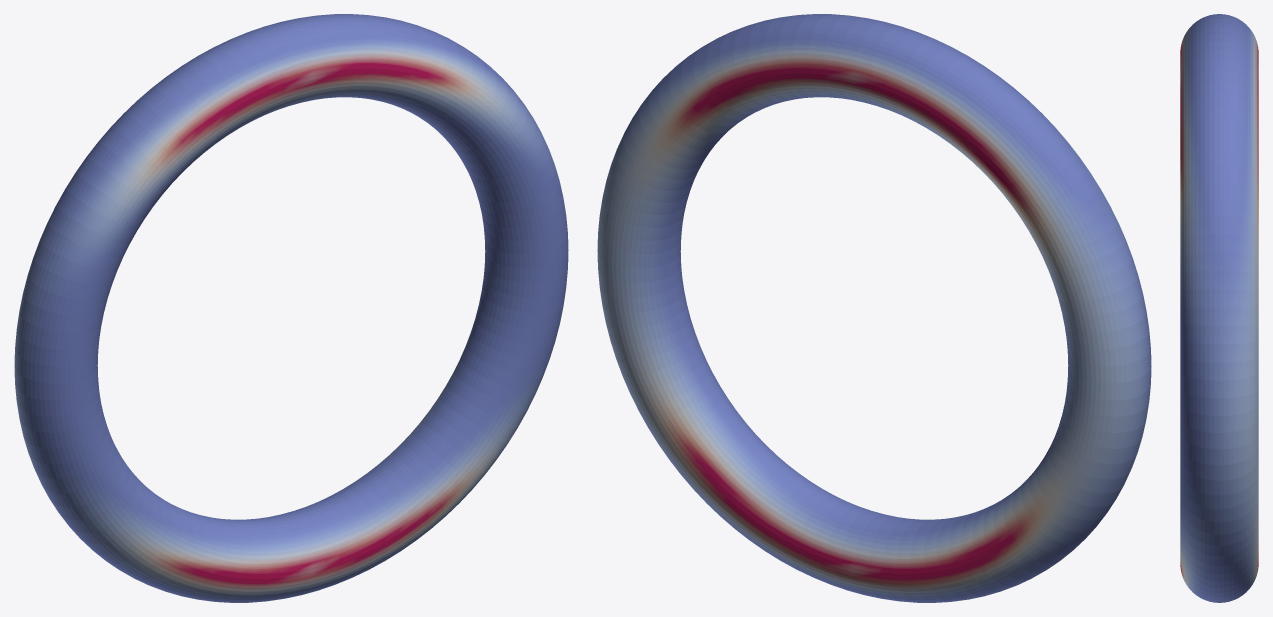
The picture shows the model from 3 angles, left to right: view 1: azimuth 30°, elevation 25°; view 2: azimuth 150°, elevation 25°; view 3: azimuth 270°, elevation 25°; orthographic projection. The views are drawn at different scales.
Visible parts, largest first — view 1: world; view 2: world; view 3: world.
Boxes of the visible parts, left/top/right/bottom form: world: left=14, top=14, right=568, bottom=602; world: left=597, top=14, right=1151, bottom=602; world: left=1180, top=14, right=1258, bottom=602.
Size of the model in its own units: 23.07 by 23.07 by 3.06.
